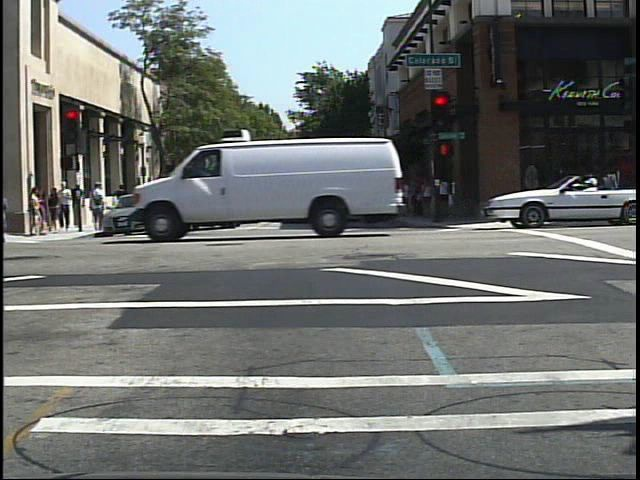person: (87, 180, 107, 231)
